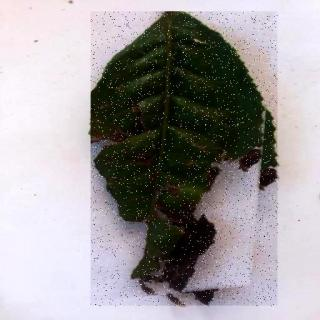Brown Blight: (92, 13, 279, 308)
